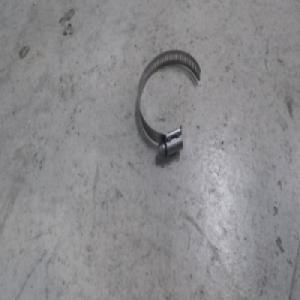AdjustableClamp: (135, 49, 201, 157)
